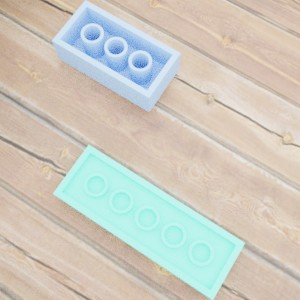lego: (53, 144, 244, 299), (51, 0, 180, 112)
